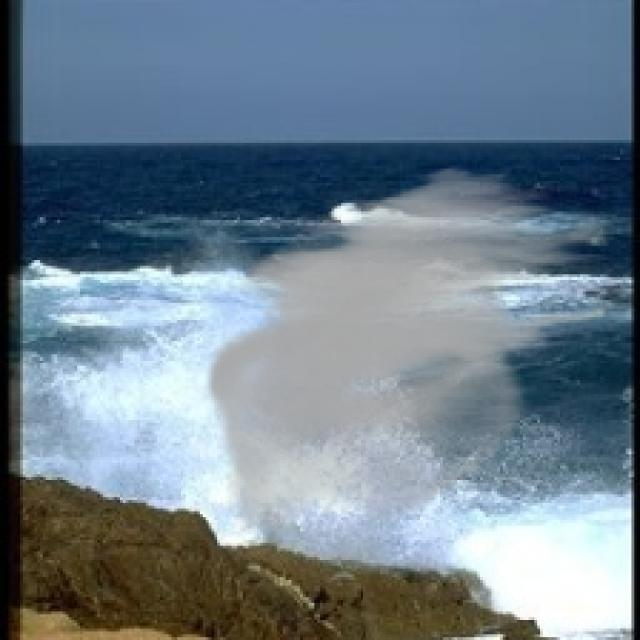Smoke: (206, 162, 608, 534)
